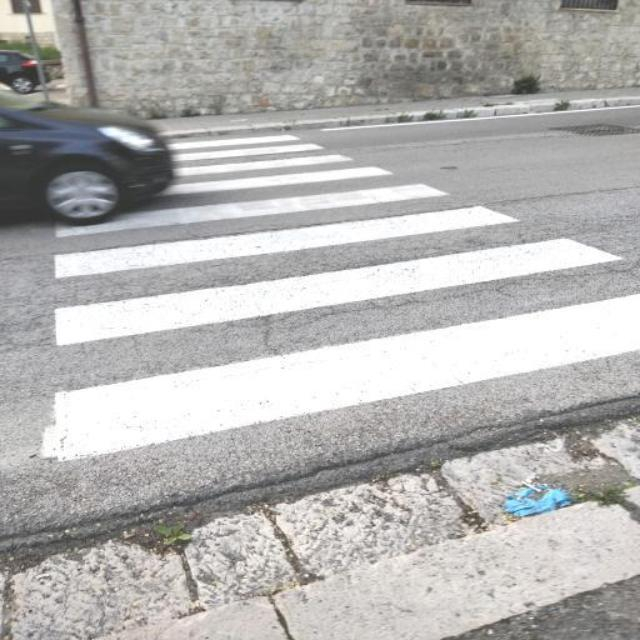sidewalk: (36, 126, 640, 557)
